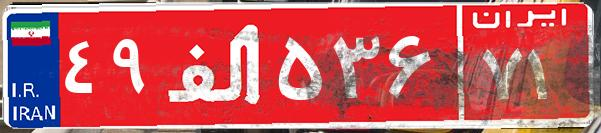1: (525, 38, 570, 115)
3: (330, 28, 385, 110)
4: (57, 26, 110, 107)
5: (273, 28, 330, 110)
6: (385, 28, 445, 110)
7: (475, 38, 525, 113)
9: (110, 28, 158, 105)
الف: (158, 15, 273, 115)
